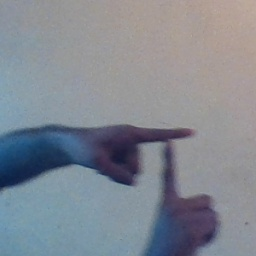T: (113, 110, 219, 234)
